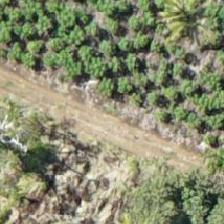coconut_tree: (137, 0, 223, 57)
